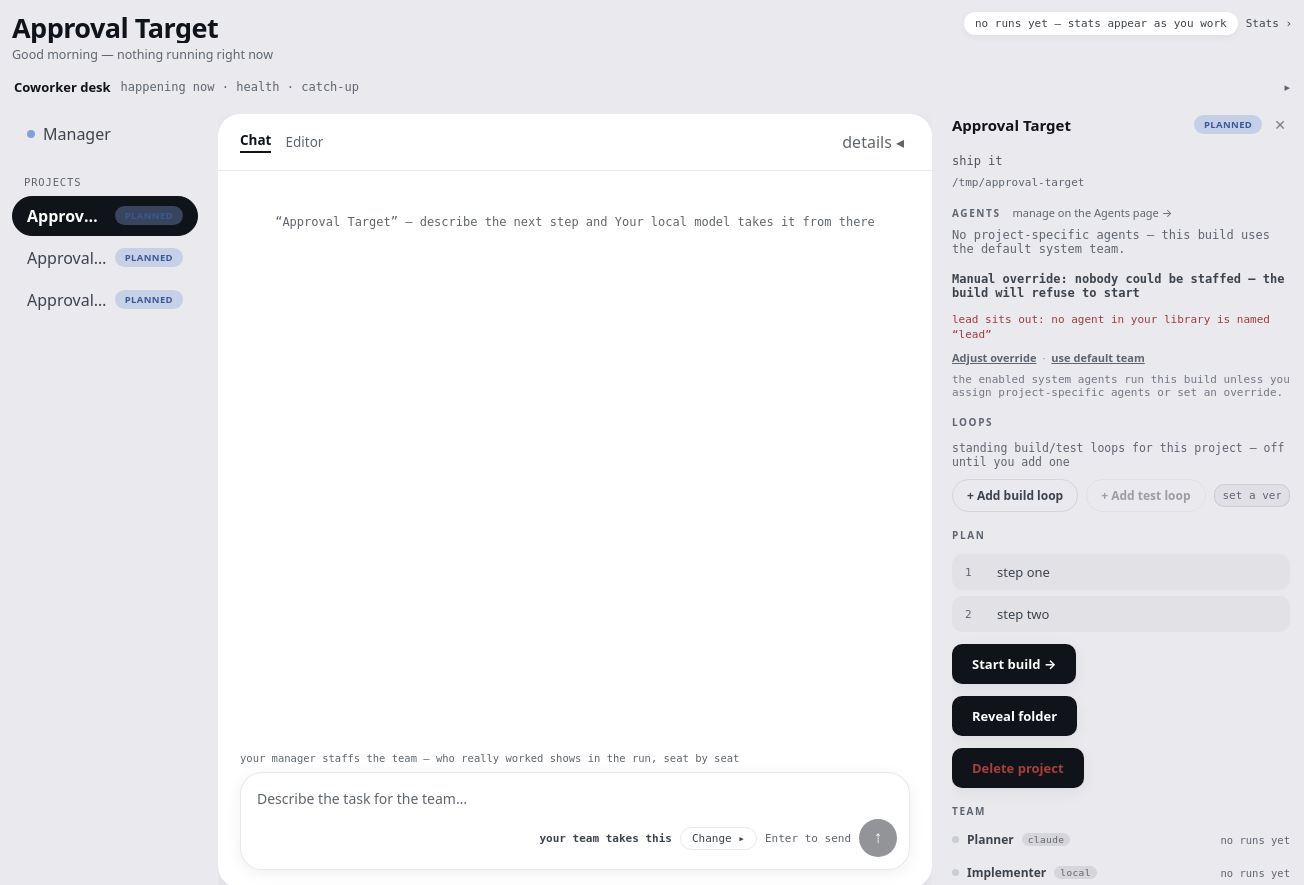
Scenario: ProjectContextPanel — Start build approval gate (MV5) › an override naming NO real agent reads as the staffing refusal, never as a promised team
Click the button "Start build →" at point(1014, 664), box [952, 644, 1076, 684]
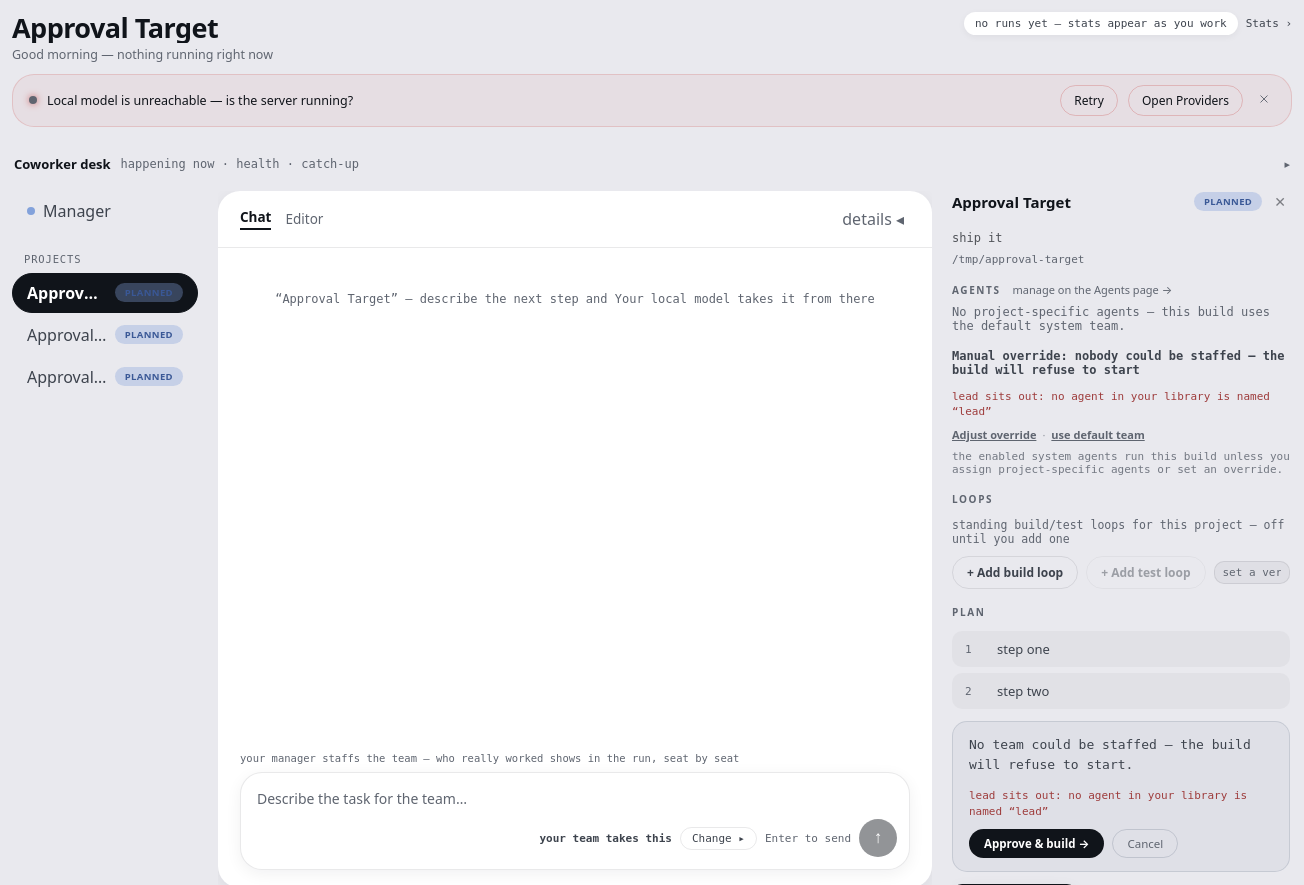
Check: the text "No team could be staffed — the build will refuse to start." is shown, box [969, 735, 1273, 774]
